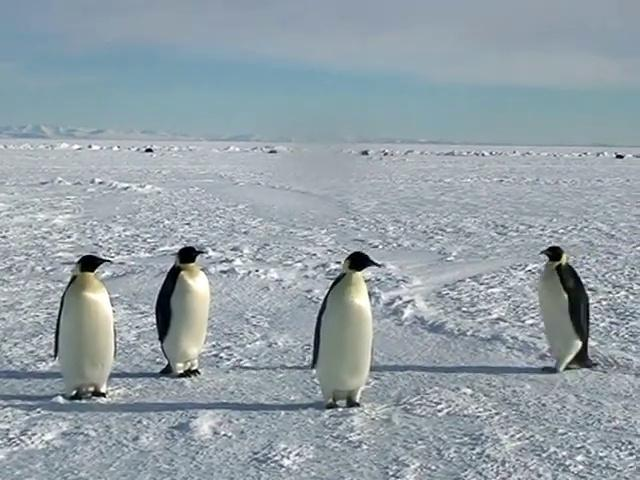animal: (312, 252, 382, 409)
